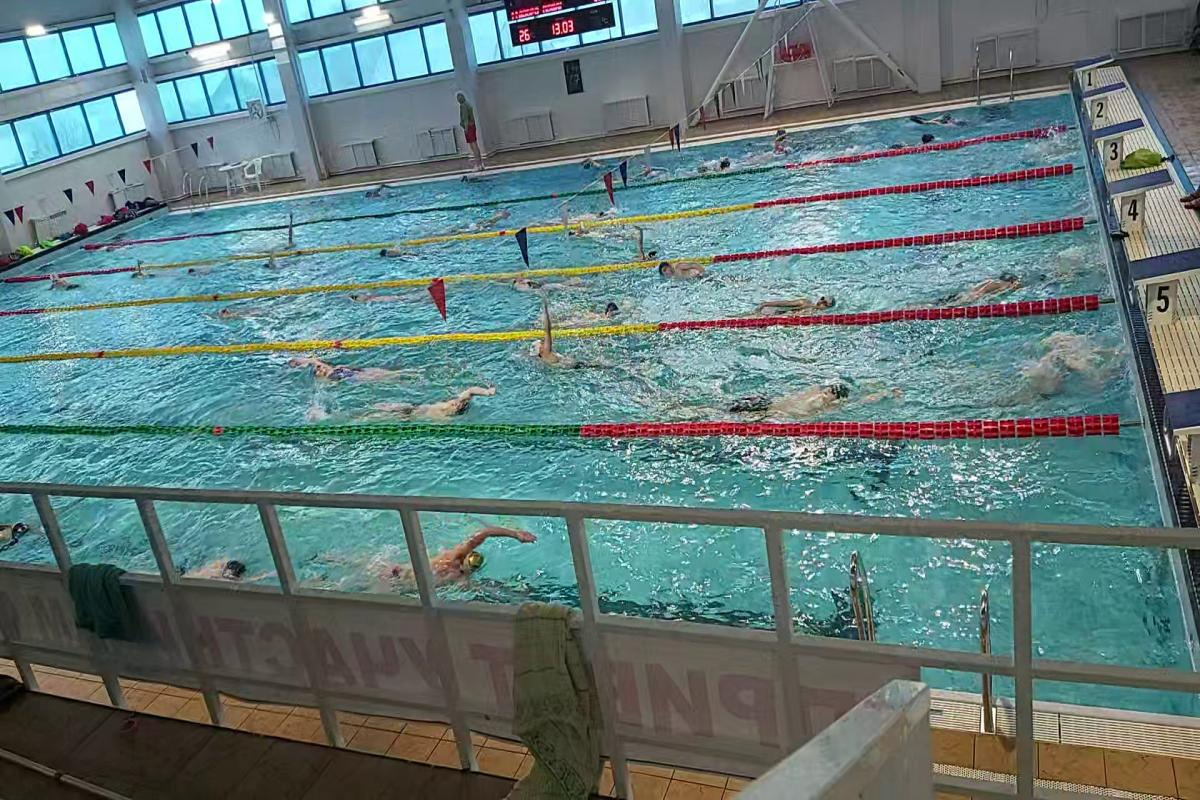swimmer: (338, 521, 546, 598), (706, 377, 886, 419), (998, 327, 1104, 396), (288, 348, 410, 390), (384, 385, 505, 421), (528, 322, 594, 380), (158, 551, 263, 582), (947, 264, 1026, 305), (751, 290, 841, 316), (343, 286, 432, 310), (656, 262, 726, 284), (204, 301, 263, 326), (579, 297, 634, 322), (504, 276, 582, 292), (372, 246, 434, 262), (258, 255, 288, 271)
